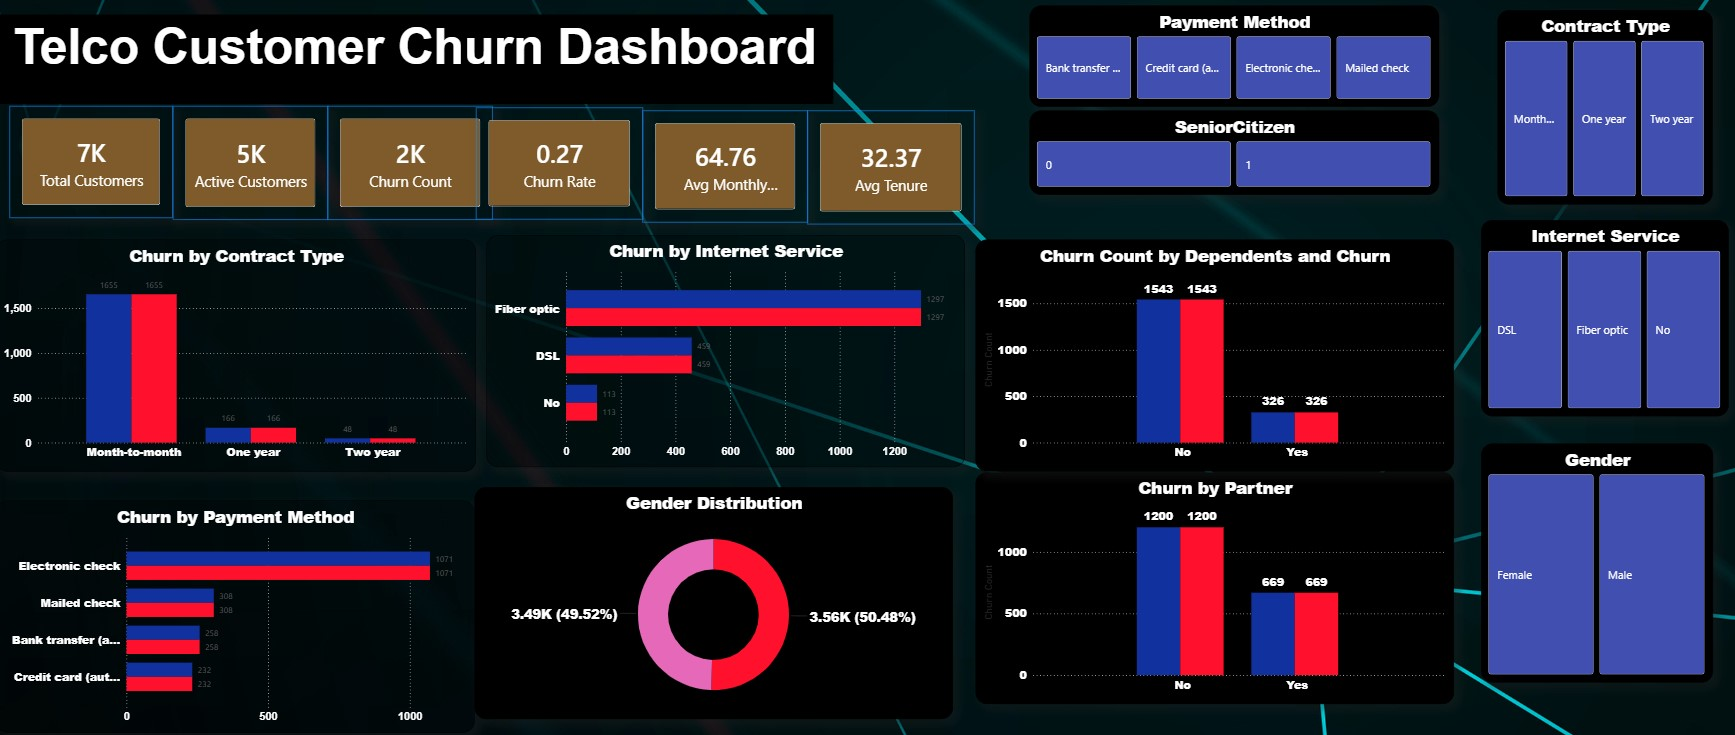

This screenshot's page, from the dashboard's own definition file:
{"tool":"powerbi","page":{"name":"Page 1","canvas":[2550,1112],"ordinal":0},"visuals":[{"type":"cardVisual","fields":{"Data":["WA_Fn-UseC_-Telco-Customer-Churn.Active Customers"]},"box":[257.5,170,225,165],"z":0},{"type":"cardVisual","fields":{"Data":["WA_Fn-UseC_-Telco-Customer-Churn.Total Customers"]},"box":[20,170,237.5,162.5],"z":1},{"type":"cardVisual","fields":{"Data":["WA_Fn-UseC_-Telco-Customer-Churn.Churn Count"]},"box":[482.5,170,240,165],"z":2},{"type":"cardVisual","fields":{"Data":["WA_Fn-UseC_-Telco-Customer-Churn.Churn Rate"]},"box":[697.5,172.5,242.5,162.5],"z":3},{"type":"cardVisual","fields":{"Data":["WA_Fn-UseC_-Telco-Customer-Churn.Avg Monthly Charges"]},"box":[940,177.5,240,162.5],"z":4},{"type":"cardVisual","fields":{"Data":["WA_Fn-UseC_-Telco-Customer-Churn.Avg Tenure"]},"box":[1180,177.5,242.5,165],"z":5},{"type":"clusteredColumnChart","title":"Churn by Contract Type","fields":{"Y":["WA_Fn-UseC_-Telco-Customer-Churn.Churn Count"],"Series":["WA_Fn-UseC_-Telco-Customer-Churn.Churn"],"Category":["WA_Fn-UseC_-Telco-Customer-Churn.Contract"]},"box":[0,365,697.5,337.5],"z":6},{"type":"clusteredBarChart","title":"Churn by Internet Service","fields":{"Series":["WA_Fn-UseC_-Telco-Customer-Churn.Churn"],"Category":["WA_Fn-UseC_-Telco-Customer-Churn.InternetService"],"Y":["WA_Fn-UseC_-Telco-Customer-Churn.Churn Count"]},"box":[712.5,357.5,695,337.5],"z":7},{"type":"clusteredBarChart","title":"Churn by Payment Method","fields":{"Series":["WA_Fn-UseC_-Telco-Customer-Churn.Churn"],"Category":["WA_Fn-UseC_-Telco-Customer-Churn.PaymentMethod"],"Y":["WA_Fn-UseC_-Telco-Customer-Churn.Churn Count"]},"box":[0,742.5,695,337.5],"z":8},{"type":"donutChart","title":"Gender Distribution","fields":{"Category":["WA_Fn-UseC_-Telco-Customer-Churn.gender"],"Y":["CountNonNull(WA_Fn-UseC_-Telco-Customer-Churn.customerID)"]},"box":[695,722.5,695,337.5],"z":9},{"type":"clusteredColumnChart","title":"Churn by Partner","fields":{"Category":["WA_Fn-UseC_-Telco-Customer-Churn.Partner"],"Series":["WA_Fn-UseC_-Telco-Customer-Churn.Churn"],"Y":["WA_Fn-UseC_-Telco-Customer-Churn.Churn Count"]},"box":[1422.5,702.5,695,337.5],"z":11},{"type":"clusteredColumnChart","fields":{"Category":["WA_Fn-UseC_-Telco-Customer-Churn.Dependents"],"Y":["WA_Fn-UseC_-Telco-Customer-Churn.Churn Count"],"Series":["WA_Fn-UseC_-Telco-Customer-Churn.Churn"]},"box":[1422.5,365,695,337.5],"z":12},{"type":"textbox","box":[0,36.7,1216.7,130],"z":13},{"type":"advancedSlicerVisual","title":"Contract Type","fields":{"Values":["WA_Fn-UseC_-Telco-Customer-Churn.Contract"]},"box":[2182.5,30,312.5,282.5],"z":14},{"type":"advancedSlicerVisual","title":"Internet Service","fields":{"Values":["WA_Fn-UseC_-Telco-Customer-Churn.InternetService"]},"box":[2157.5,335,360,285],"z":15},{"type":"advancedSlicerVisual","title":"Payment Method","fields":{"Values":["WA_Fn-UseC_-Telco-Customer-Churn.PaymentMethod"]},"box":[1502.5,25,595,147.5],"z":16},{"type":"advancedSlicerVisual","title":"Gender","fields":{"Values":["WA_Fn-UseC_-Telco-Customer-Churn.gender"]},"box":[2157.5,660,337.5,347.5],"z":17},{"type":"advancedSlicerVisual","fields":{"Values":["WA_Fn-UseC_-Telco-Customer-Churn.SeniorCitizen"]},"box":[1502.5,177.5,595,122.5],"z":18}]}

Visuals, with their boxes in screenshot pixels (x1, y1, x2, y2), scaled from the page's 2550x1112 canvas onto the 1735x735 screenshot:
cardVisual - WA_Fn-UseC_-Telco-Customer-Churn.Active Customers: 175 112 328 221
cardVisual - WA_Fn-UseC_-Telco-Customer-Churn.Total Customers: 14 112 175 220
cardVisual - WA_Fn-UseC_-Telco-Customer-Churn.Churn Count: 328 112 492 221
cardVisual - WA_Fn-UseC_-Telco-Customer-Churn.Churn Rate: 475 114 640 221
cardVisual - WA_Fn-UseC_-Telco-Customer-Churn.Avg Monthly Charges: 640 117 803 225
cardVisual - WA_Fn-UseC_-Telco-Customer-Churn.Avg Tenure: 803 117 968 226
"Churn by Contract Type" clusteredColumnChart: 0 241 475 464
"Churn by Internet Service" clusteredBarChart: 485 236 958 459
"Churn by Payment Method" clusteredBarChart: 0 491 473 714
"Gender Distribution" donutChart: 473 478 946 701
"Churn by Partner" clusteredColumnChart: 968 464 1441 687
clusteredColumnChart - WA_Fn-UseC_-Telco-Customer-Churn.Dependents x WA_Fn-UseC_-Telco-Customer-Churn.Churn Count: 968 241 1441 464
textbox: 0 24 828 110
"Contract Type" advancedSlicerVisual: 1485 20 1698 207
"Internet Service" advancedSlicerVisual: 1468 221 1713 410
"Payment Method" advancedSlicerVisual: 1022 17 1427 114
"Gender" advancedSlicerVisual: 1468 436 1698 666
advancedSlicerVisual - WA_Fn-UseC_-Telco-Customer-Churn.SeniorCitizen: 1022 117 1427 198
